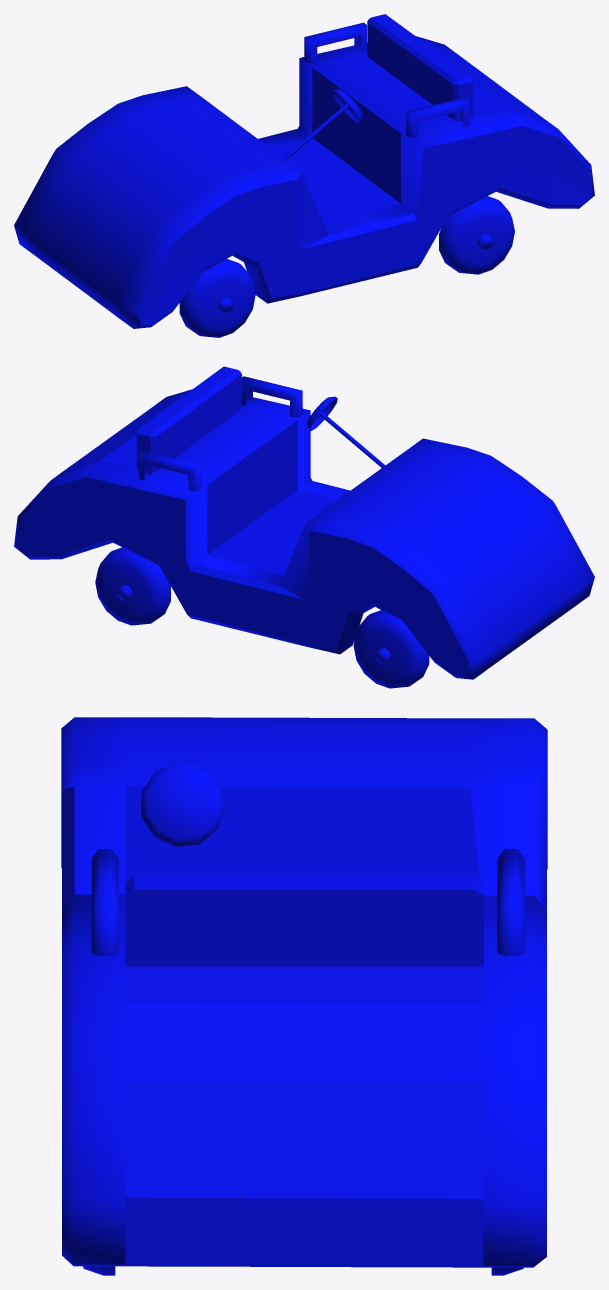
The model's file is carro azul.FBX.
3 renders of one model, top to bottom at view 1: azimuth 30°, elevation 25°; view 2: azimuth 150°, elevation 25°; view 3: azimuth 270°, elevation 25°, orthographic. The views are drawn at different scales.
Parts seen in each view (by area): view 1: carro azul; view 2: carro azul; view 3: carro azul.
Part boxes in pixels (x1,y1,x2,y2): carro azul: [14, 14, 594, 337]; carro azul: [14, 366, 594, 688]; carro azul: [61, 717, 547, 1275].
Bounding box in the file's own units: 120 × 54.31 × 48.26.
